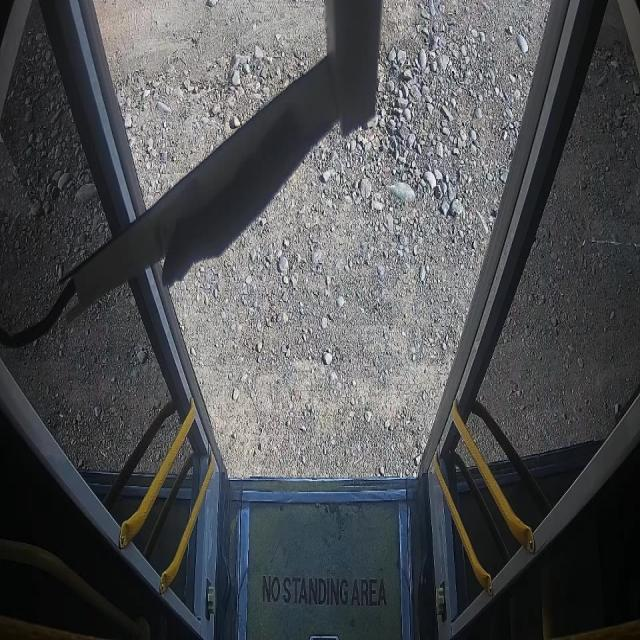open: (78, 1, 580, 487)
